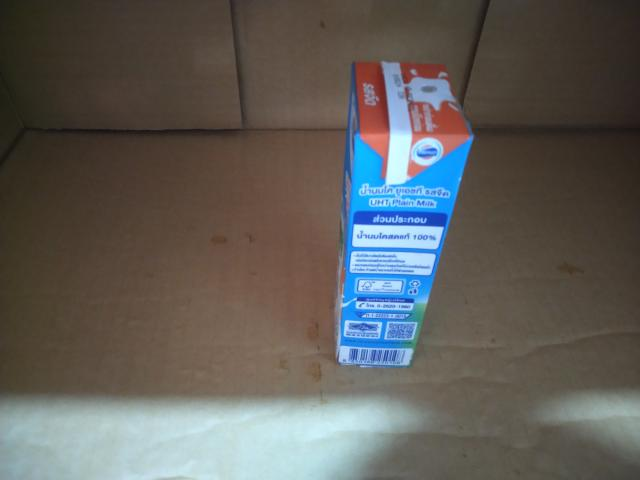drink_box: (324, 52, 488, 395)
